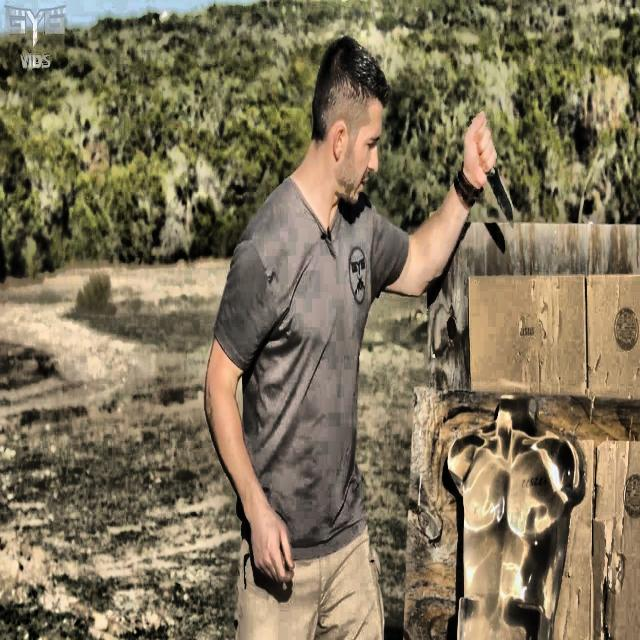knife: (489, 163, 514, 229)
